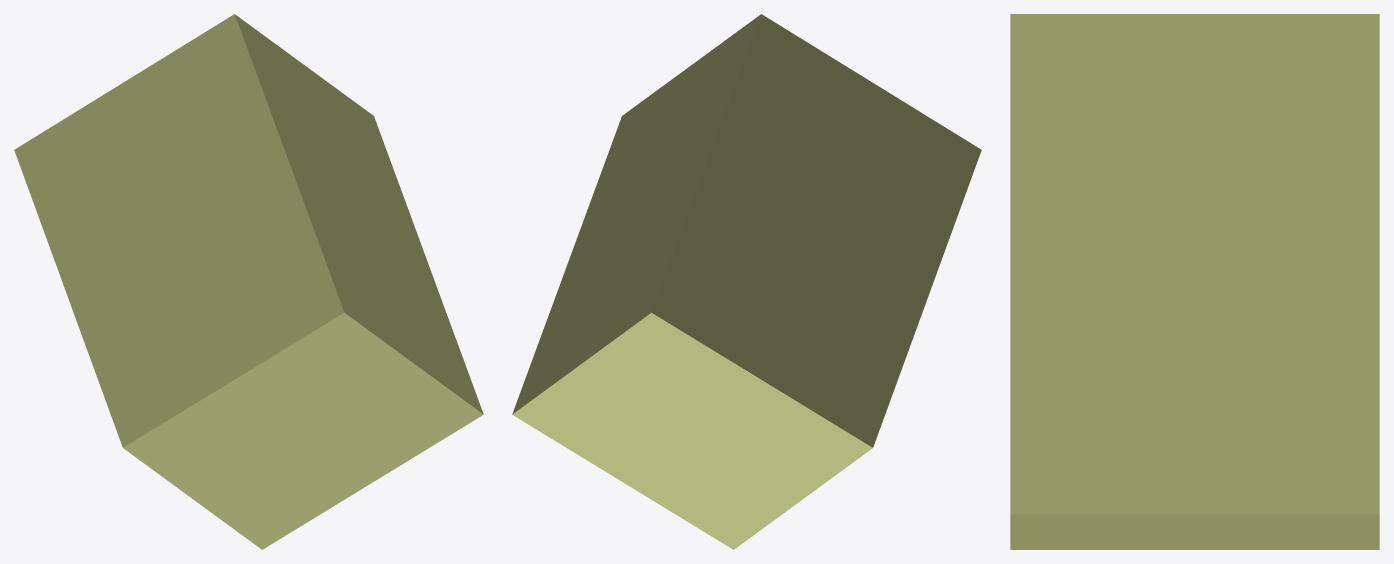
3 views of the same model, side by side, from view 1: azimuth 30°, elevation 25°; view 2: azimuth 150°, elevation 25°; view 3: azimuth 270°, elevation 25° (orthographic). The views are drawn at different scales.
Parts seen in each view (by area): view 1: 0_1_0_2_0_0_3_0_2_1_2; view 2: 0_1_0_2_0_0_3_0_2_1_2; view 3: 0_1_0_2_0_0_3_0_2_1_2.
Boxes of the visible parts, left/top/right/bottom form: 0_1_0_2_0_0_3_0_2_1_2: left=14, top=14, right=483, bottom=549; 0_1_0_2_0_0_3_0_2_1_2: left=512, top=14, right=981, bottom=549; 0_1_0_2_0_0_3_0_2_1_2: left=1010, top=14, right=1379, bottom=549.
Size of the model in its own units: 8.21 by 9.66 by 6.
